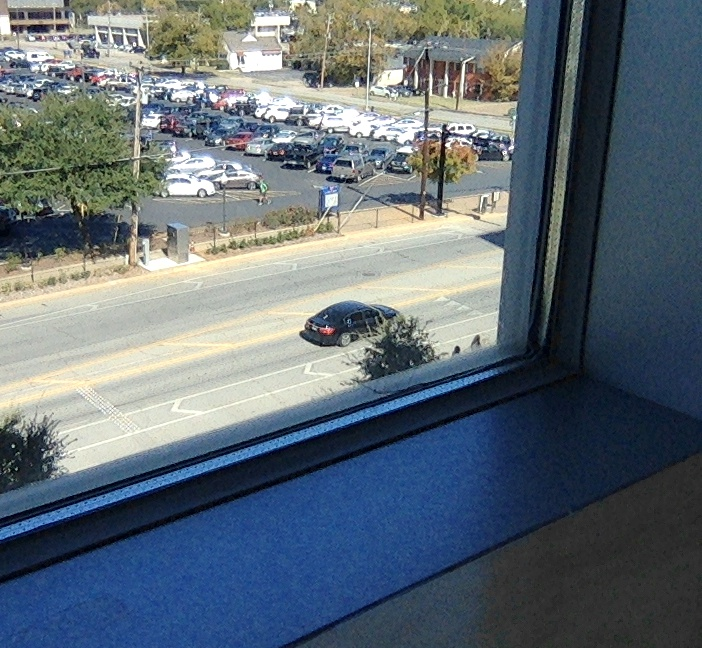car: (300, 300, 402, 348)
